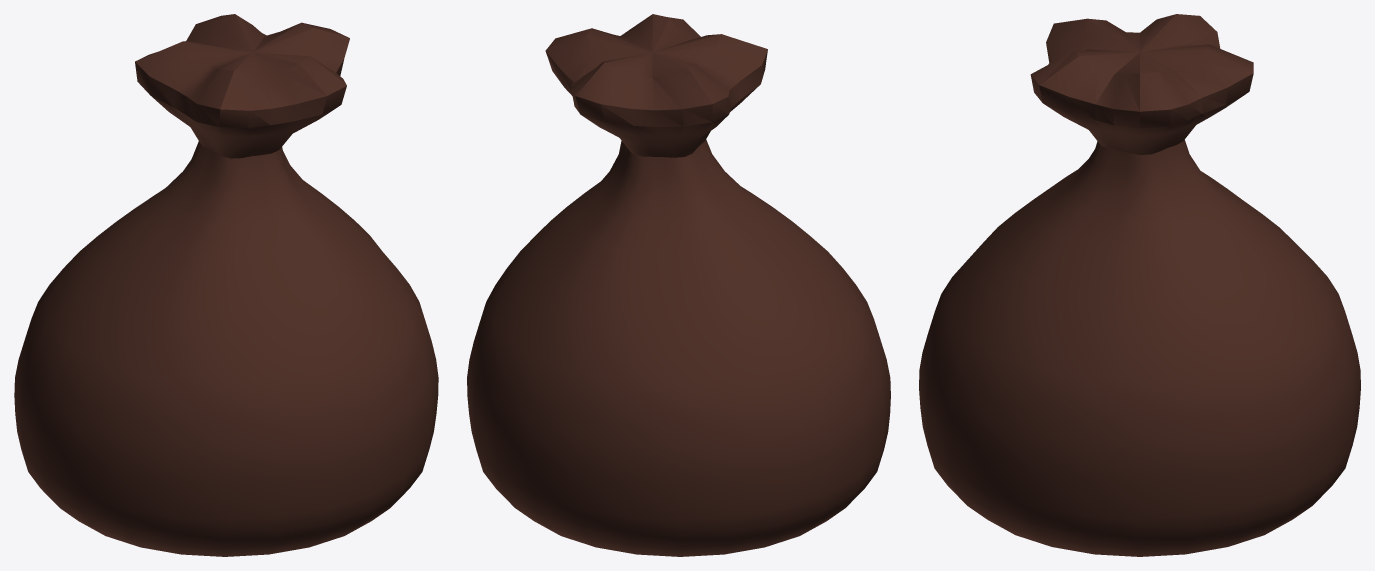
The model's file is item.glb.
The picture shows the model from 3 angles, left to right: view 1: azimuth 30°, elevation 25°; view 2: azimuth 150°, elevation 25°; view 3: azimuth 270°, elevation 25°; orthographic projection. The views are drawn at different scales.
Visible parts, largest first — view 1: body; view 2: body; view 3: body.
Boxes of the visible parts, x1=… form: body: x1=14, y1=14, x2=438, y2=556; body: x1=467, y1=14, x2=890, y2=556; body: x1=919, y1=14, x2=1360, y2=556.
Bounding box in the file's own units: 0.2087 × 0.25 × 0.2085.
1 material, 1 textured.
